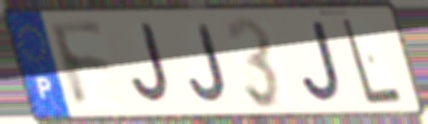3: (226, 14, 285, 111)
F: (46, 19, 117, 113)
J: (128, 21, 174, 108), (299, 18, 344, 105), (187, 23, 229, 105)
L: (338, 15, 406, 107)
